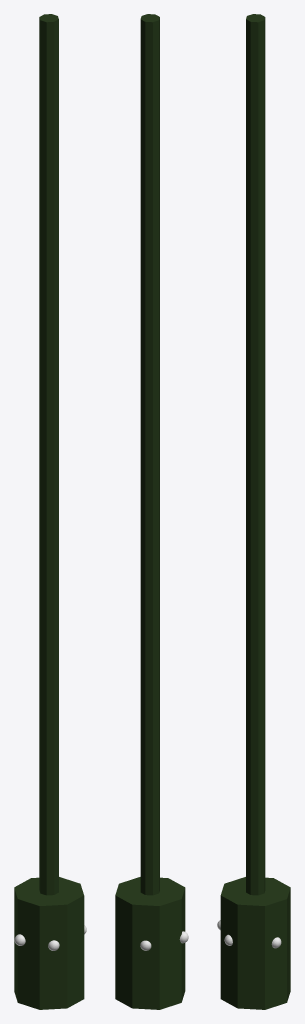
File: direk.fbx
3 views of the same model, side by side, from view 1: azimuth 30°, elevation 25°; view 2: azimuth 150°, elevation 25°; view 3: azimuth 330°, elevation 25° (orthographic).
Parts seen in each view (by area): view 1: Cylinder.015; view 2: Cylinder.015; view 3: Cylinder.015.
Boxes of the visible parts, bbox=[...] form: Cylinder.015: bbox=[14, 14, 86, 1009]; Cylinder.015: bbox=[115, 14, 188, 1009]; Cylinder.015: bbox=[217, 14, 290, 1009].
Bounding box in the file's own units: 0.5614 × 7.81 × 0.5251.
